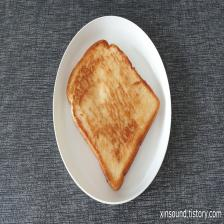bread: (66, 38, 161, 191)
